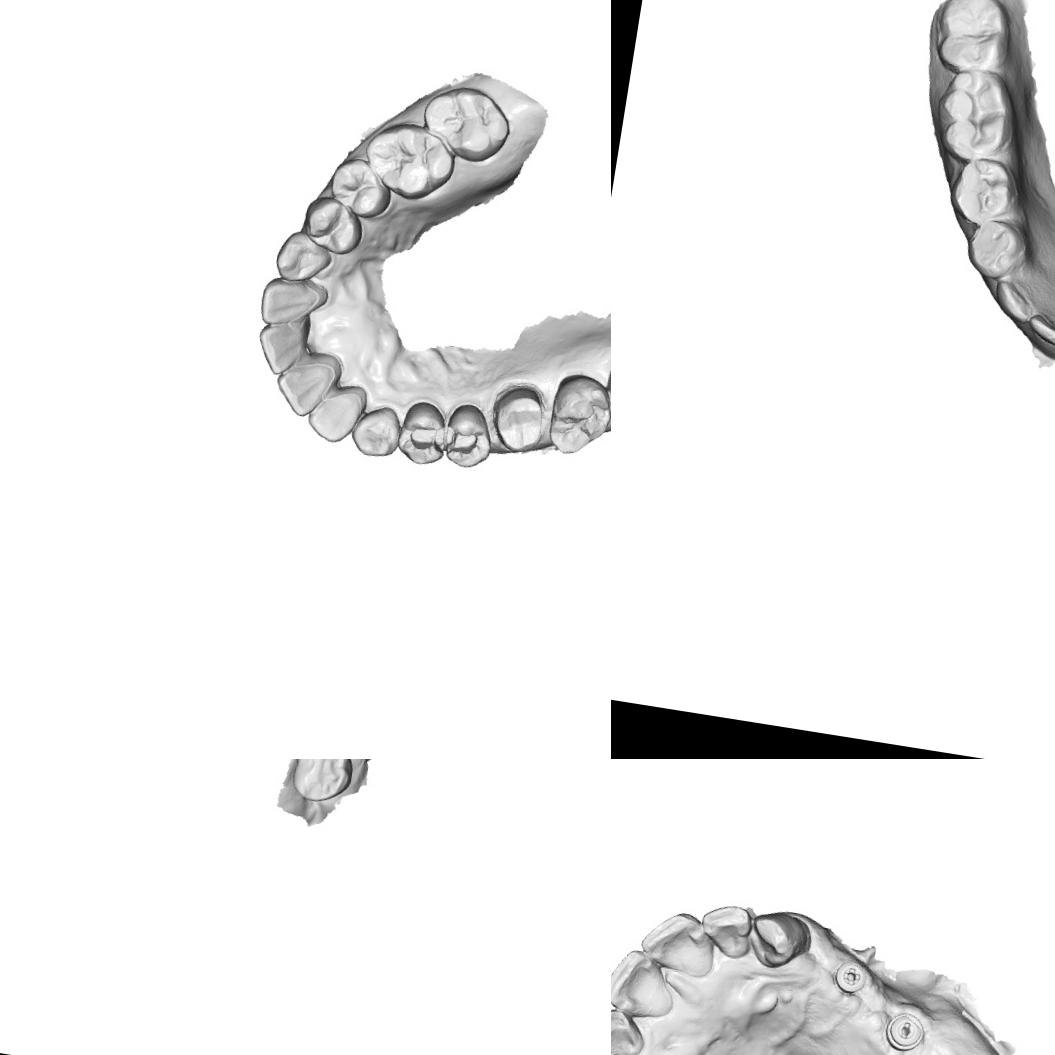canine: (743, 906, 816, 974), (272, 227, 337, 288), (346, 398, 405, 462), (988, 274, 1040, 325)
crown: (482, 375, 556, 458)
implant_minus: (881, 1008, 928, 1055)
implant_plus: (830, 957, 870, 998)
incisor: (635, 905, 722, 981), (271, 347, 344, 422), (611, 944, 681, 1022), (302, 378, 376, 448), (256, 272, 331, 334), (694, 898, 756, 964), (252, 314, 312, 380), (611, 1005, 649, 1055), (1024, 312, 1055, 351)
inlay: (440, 419, 486, 465), (402, 413, 446, 461)
molar: (932, 64, 1024, 166), (358, 116, 461, 206), (416, 80, 518, 168), (931, 0, 1018, 80), (544, 369, 611, 460), (288, 759, 359, 807)
premolar: (945, 154, 1019, 229), (325, 154, 397, 222), (960, 214, 1031, 282), (298, 192, 368, 258)
